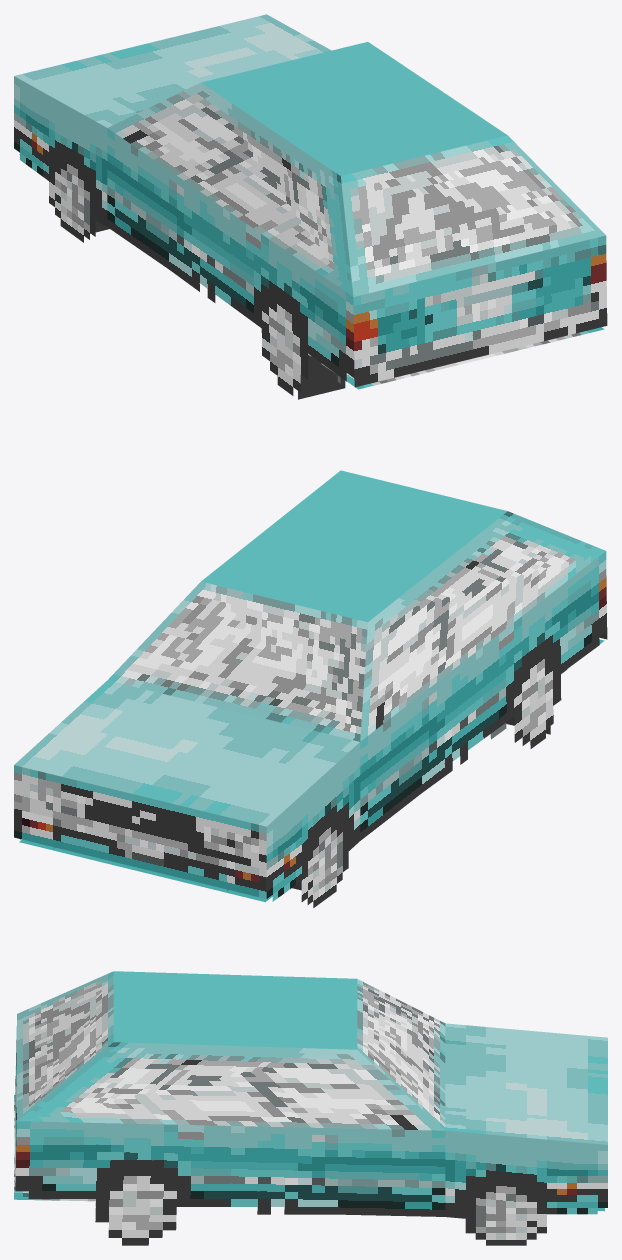
Rendered from car-wagon.glb.
3 renders of one model, top to bottom at view 1: azimuth 30°, elevation 25°; view 2: azimuth 150°, elevation 25°; view 3: azimuth 270°, elevation 25°, orthographic. The views are drawn at different scales.
Parts seen in each view (by area): view 1: car-wagon; view 2: car-wagon; view 3: car-wagon.
Boxes of the visible parts, x1,y1,x2,y2 form: car-wagon: (14,14,607,399); car-wagon: (14,470,607,907); car-wagon: (14,971,607,1245).
Size of the model in its own units: 1.89 by 1.52 by 4.42.
Materials: 13 (13 with a texture image).
